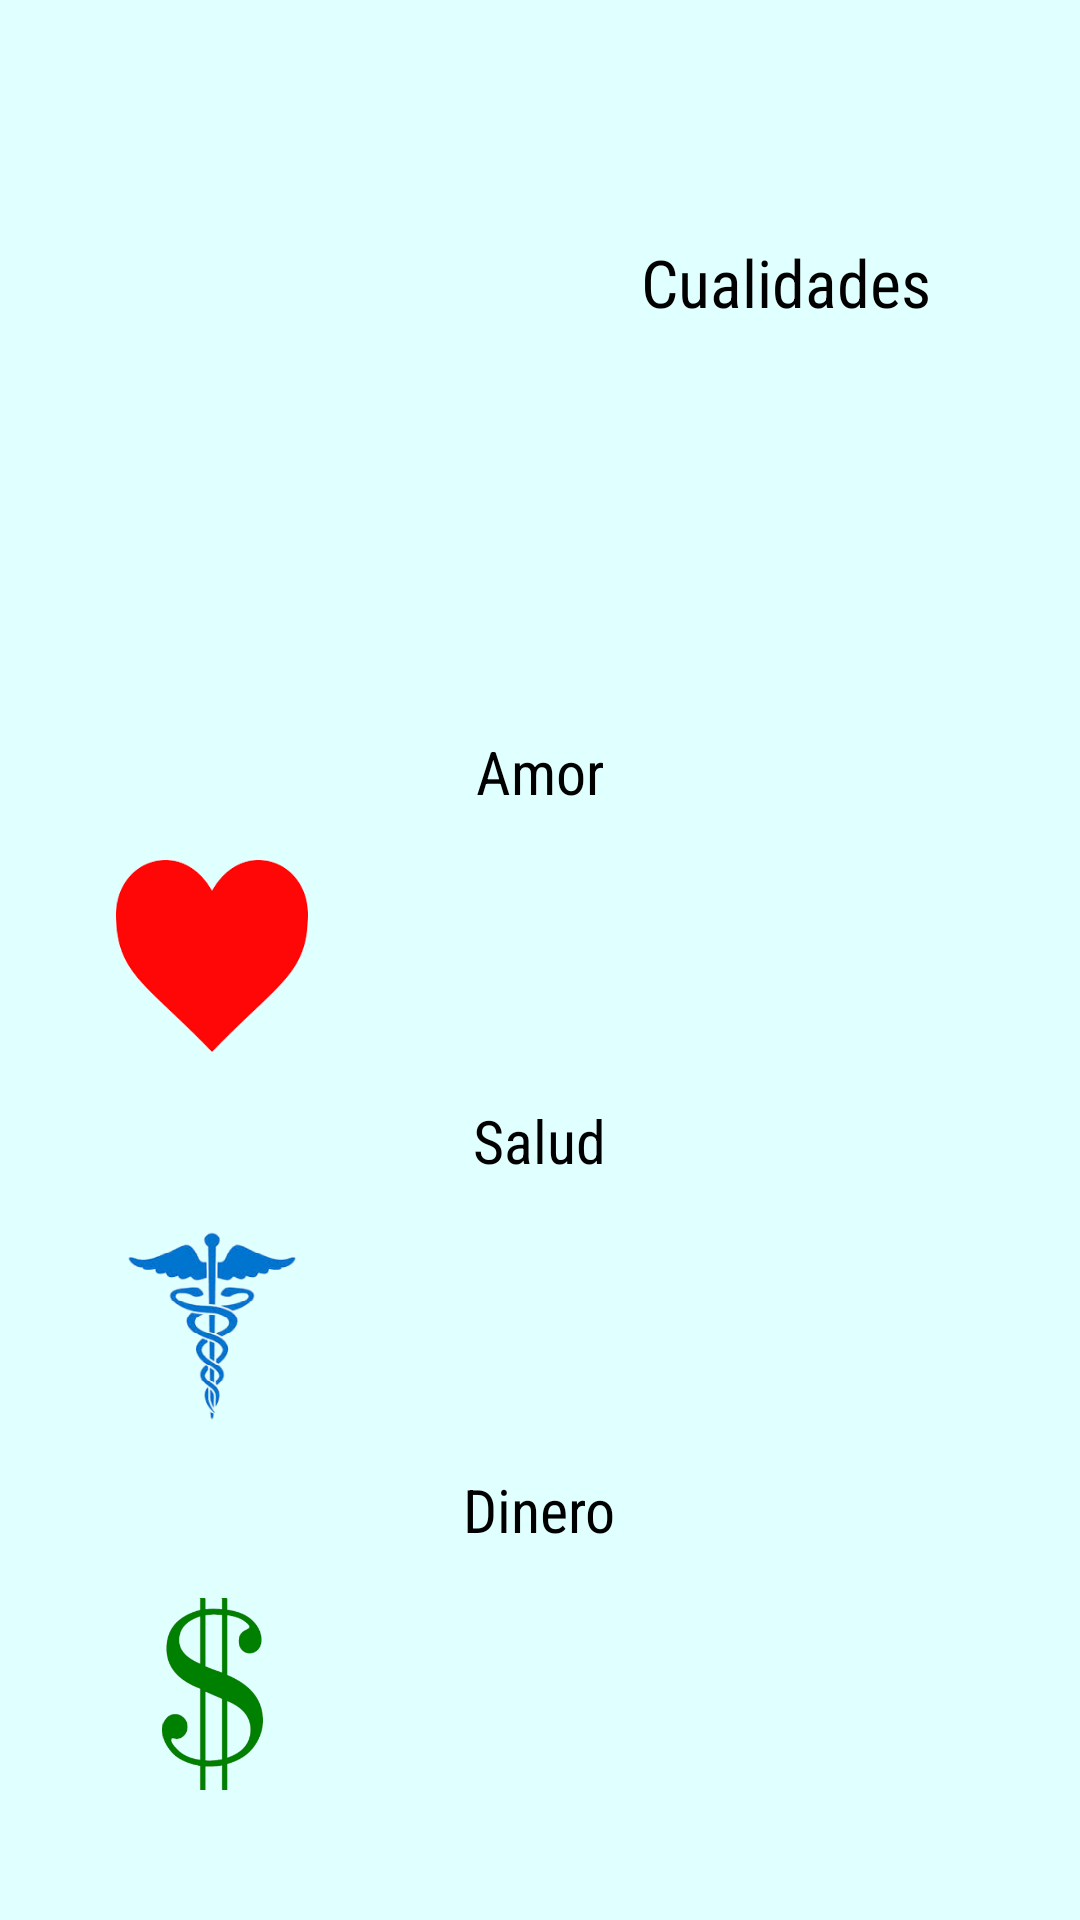

Where icons sit on this 1080w x 1920h app screen, as (left=x1, top=y1, right=x2, bottom=y2):
corazon: (left=116, top=860, right=308, bottom=1052)
